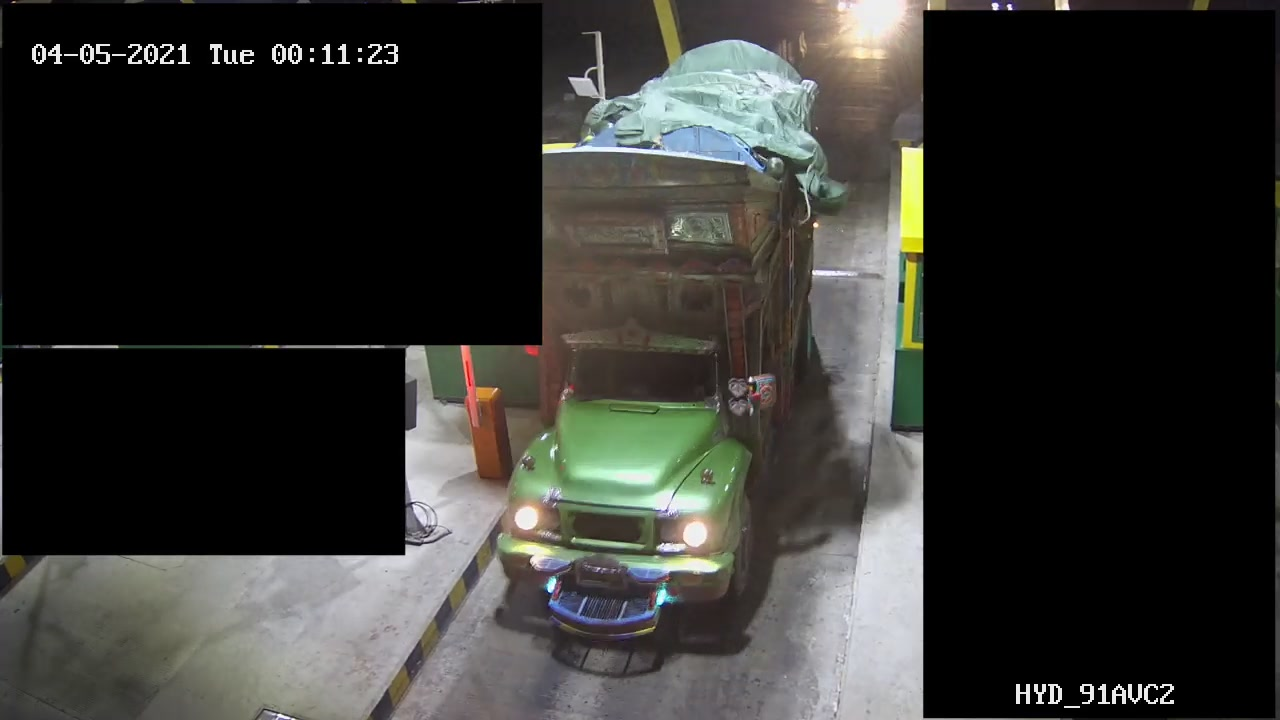F5: (487, 38, 841, 650)
